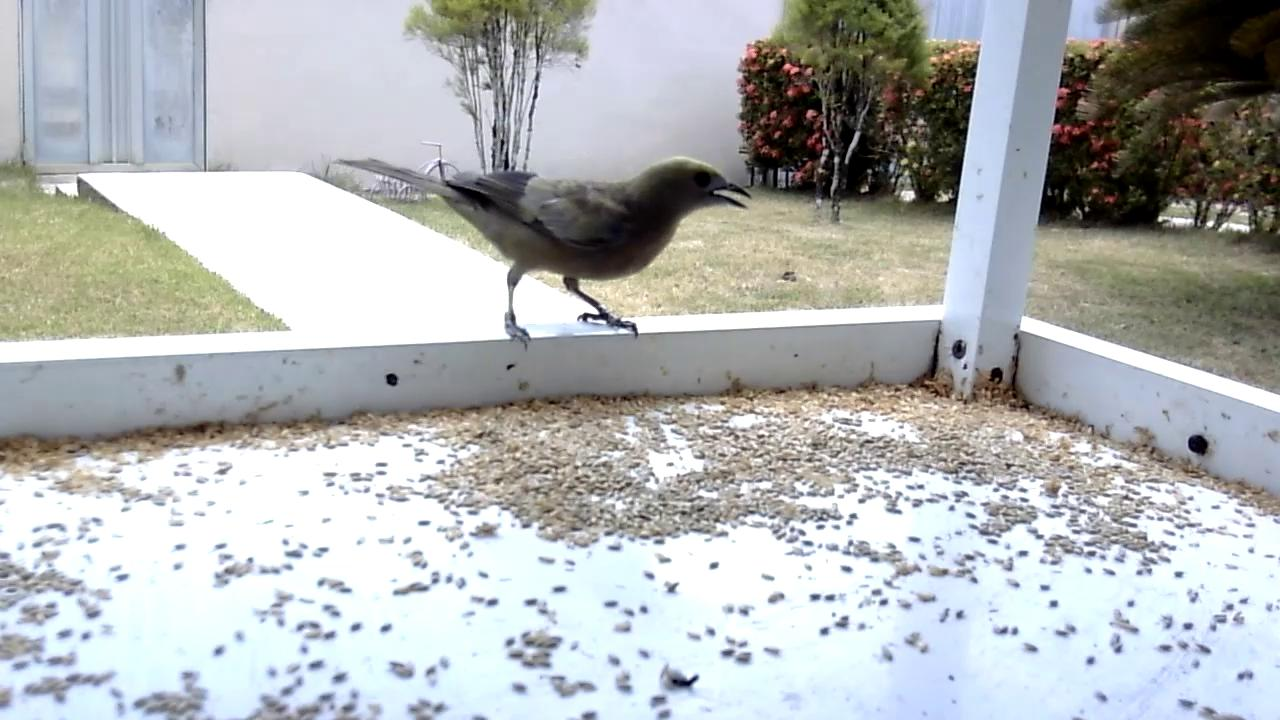sanhaco_do_coqueiro: (330, 154, 756, 355)
